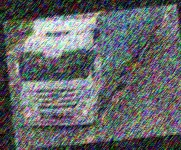truck: (9, 7, 172, 132)
